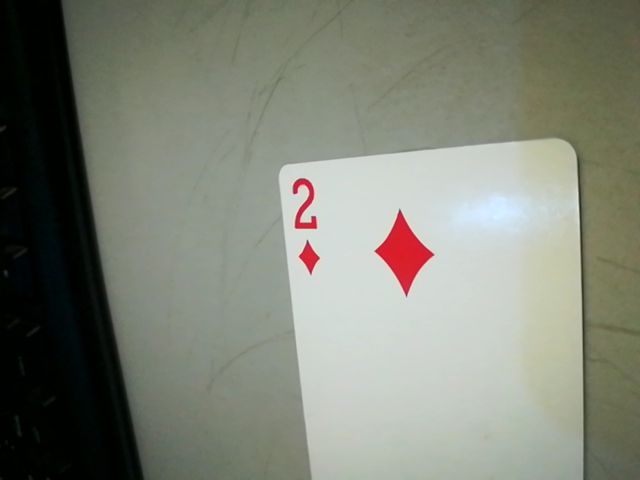fk 2: (277, 168, 333, 281)
